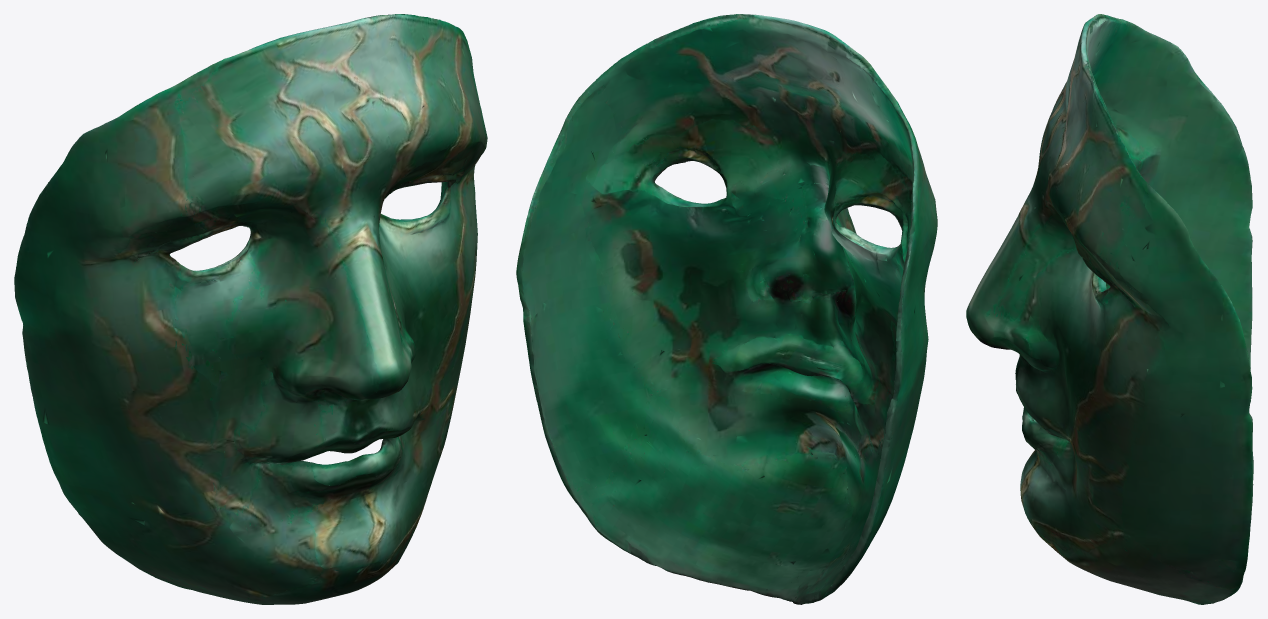
File: mask-c.glb
3 views of the same model, side by side, from view 1: azimuth 30°, elevation 25°; view 2: azimuth 150°, elevation 25°; view 3: azimuth 270°, elevation 25° (orthographic). The views are drawn at different scales.
Parts seen in each view (by area): view 1: mask-c; view 2: mask-c; view 3: mask-c.
Boxes of the visible parts, x1=… form: mask-c: x1=14, y1=14, x2=487, y2=604; mask-c: x1=516, y1=14, x2=937, y2=604; mask-c: x1=966, y1=14, x2=1253, y2=604.
Size of the model in its own units: 0.2467 by 0.325 by 0.1572.
Materials: 1 (1 with a texture image).
